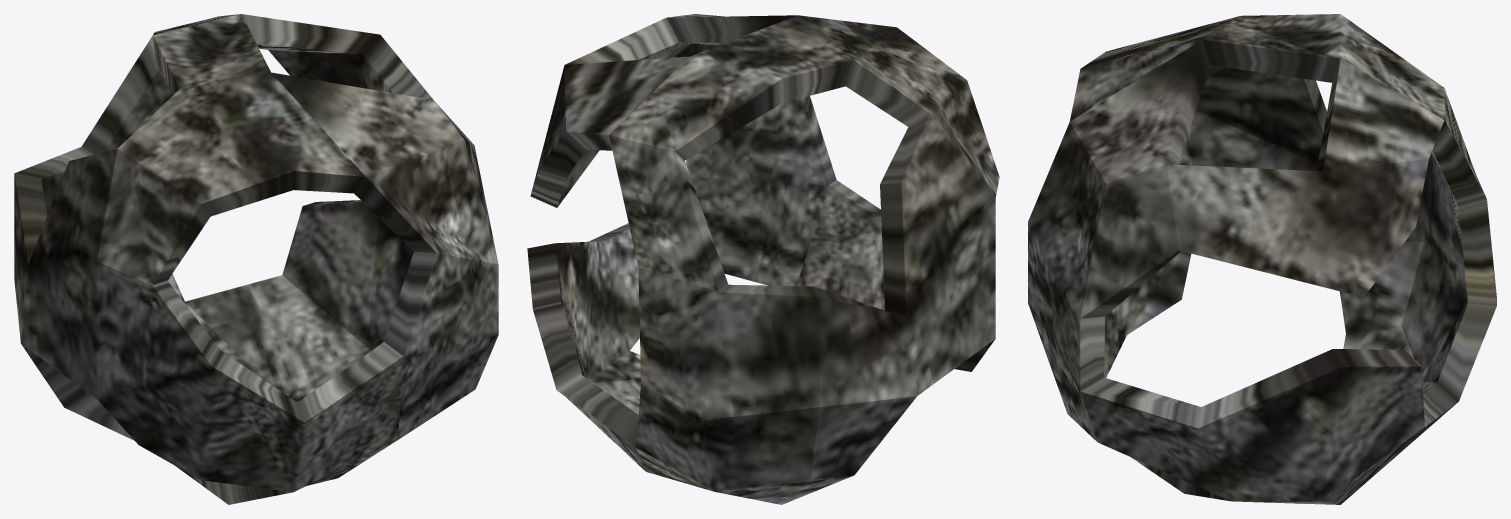
File: ResourceShell.fbx
3 renders of one model, left to right at view 1: azimuth 30°, elevation 25°; view 2: azimuth 150°, elevation 25°; view 3: azimuth 270°, elevation 25°, orthographic. The views are drawn at different scales.
Parts seen in each view (by area): view 1: Resource; view 2: Resource; view 3: Resource.
Part boxes in pixels (x1,y1,x2,y2): Resource: (14, 14, 498, 504); Resource: (527, 14, 999, 504); Resource: (1028, 14, 1496, 504).
Bounding box in the file's own units: 257 × 258 × 258.
